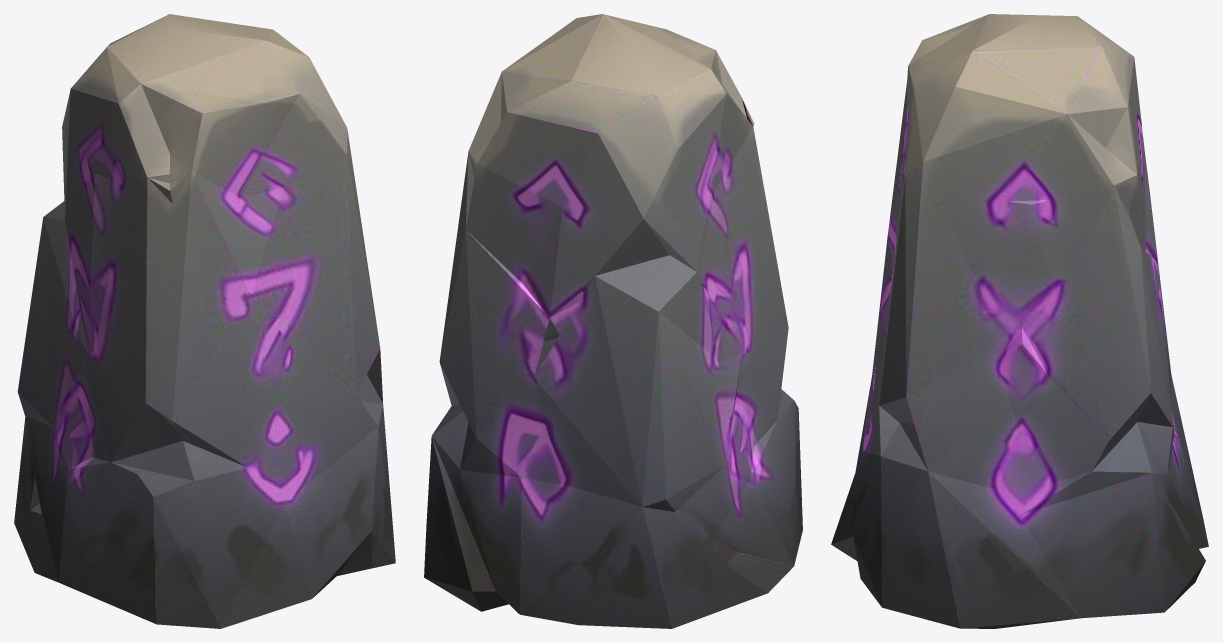
File: a-borne-semis.glb
3 renders of one model, left to right at view 1: azimuth 30°, elevation 25°; view 2: azimuth 150°, elevation 25°; view 3: azimuth 270°, elevation 25°, orthographic.
Parts seen in each view (by area): view 1: a-borne-semis; view 2: a-borne-semis; view 3: a-borne-semis.
Part boxes in pixels (box(x1,y1,x2,y2)): a-borne-semis: box(14, 14, 395, 628); a-borne-semis: box(424, 14, 802, 628); a-borne-semis: box(831, 14, 1208, 628).
Size of the model in its own units: 1.28 by 2 by 1.28.
Materials: 1 (1 with a texture image).
